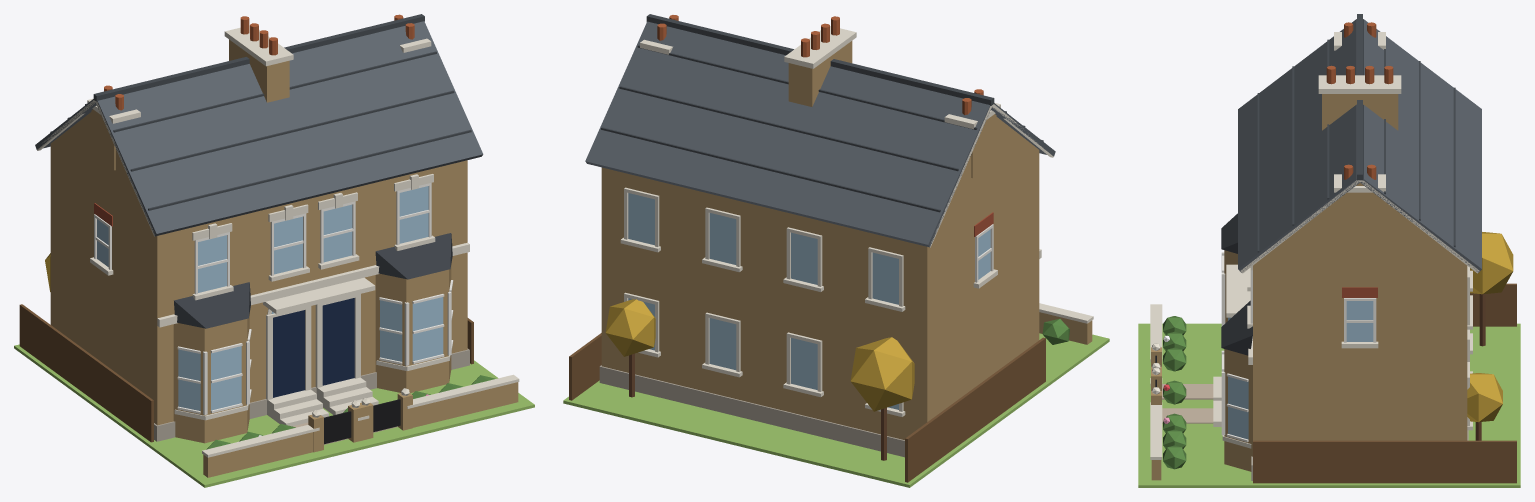
The model's file is MustakilEv_londra_kulube_9_Hafif.fbx.
3 renders of one model, left to right at view 1: azimuth 30°, elevation 25°; view 2: azimuth 150°, elevation 25°; view 3: azimuth 270°, elevation 25°, orthographic. The views are drawn at different scales.
Visible parts, largest first — view 1: MustakilEv_londra_kulube_9_Hafif; view 2: MustakilEv_londra_kulube_9_Hafif; view 3: MustakilEv_londra_kulube_9_Hafif.
Part boxes in pixels (box(x1,y1,x2,y2)): MustakilEv_londra_kulube_9_Hafif: box(14, 14, 534, 487); MustakilEv_londra_kulube_9_Hafif: box(563, 14, 1109, 487); MustakilEv_londra_kulube_9_Hafif: box(1138, 14, 1520, 487).
Bounding box in the file's own units: 10 × 9.79 × 10.
